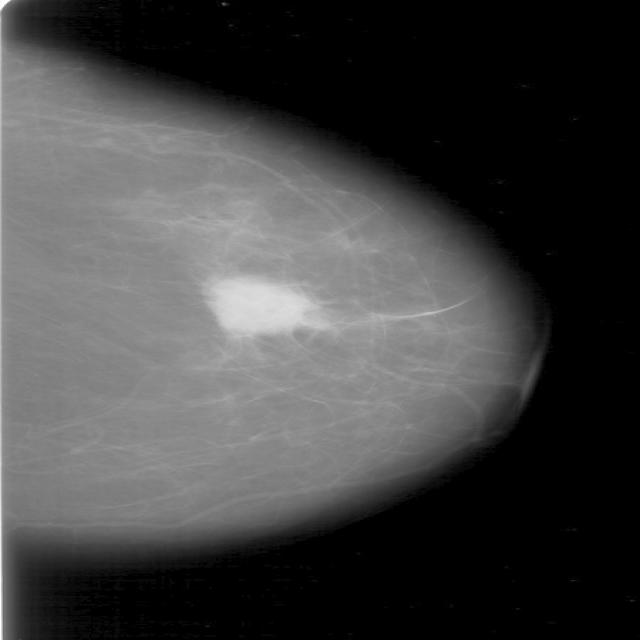tumour: (202, 274, 326, 332)
